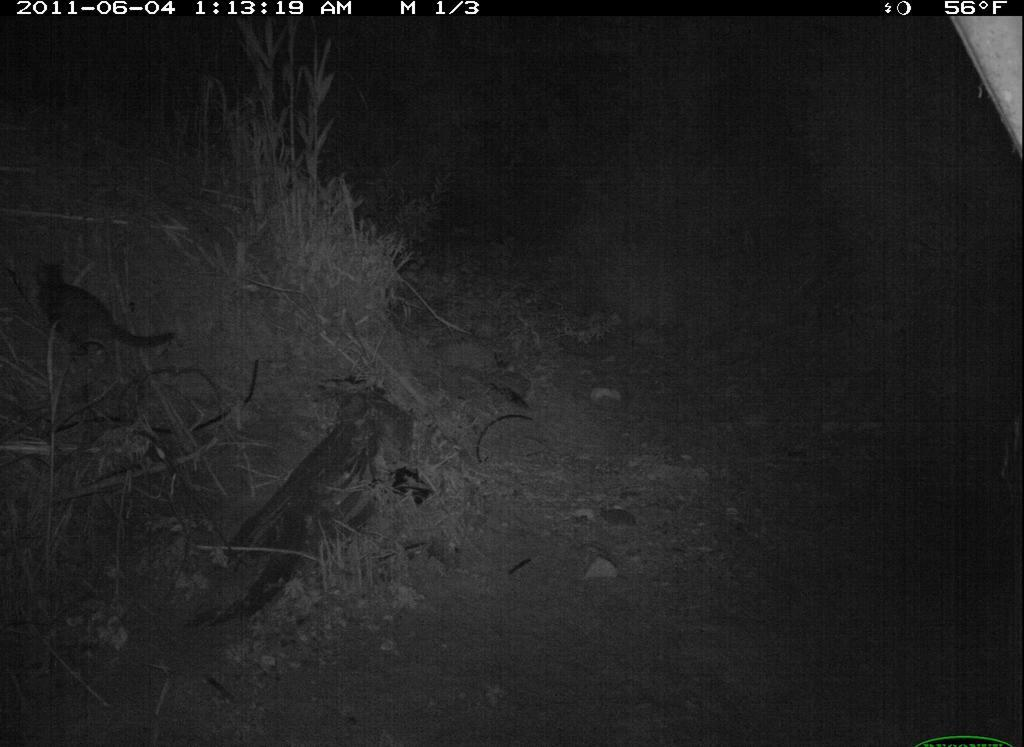cat: (31, 238, 180, 382)
